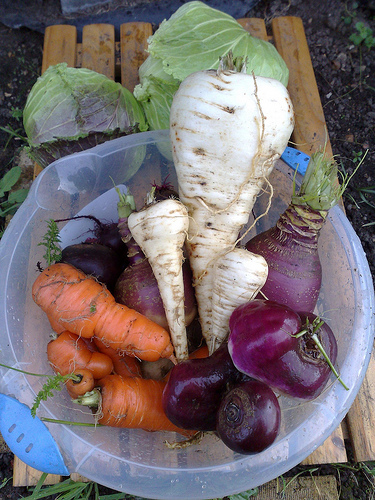turnip: (130, 0, 295, 356), (128, 187, 191, 361)
